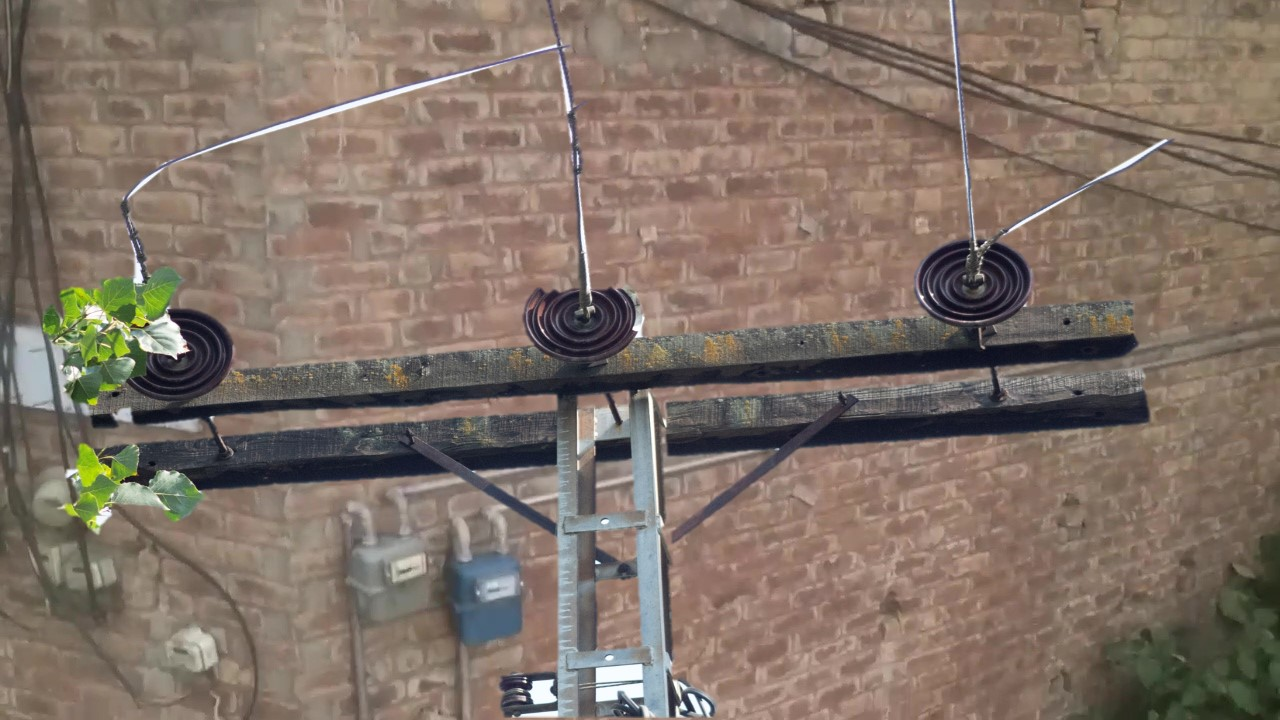defect_disc: (518, 282, 649, 362)
insulator_disc: (913, 235, 1036, 331), (133, 303, 237, 404)
